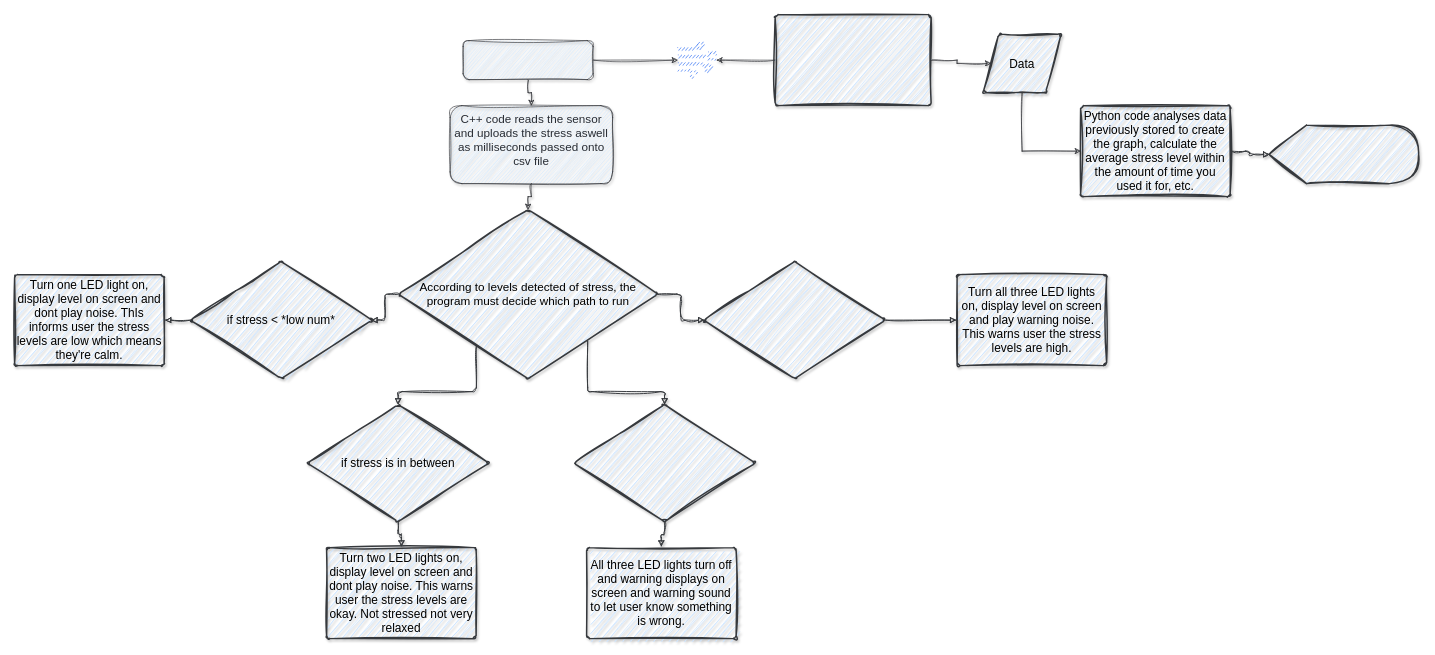
Image size: 1435x655. Some labels were removed from this diagram. Here are the shapes that lost their labels. From the top down, the centre of each, then its label:
At pixel 528 60: "User puts on GSR sensor".
At pixel 853 61: "Python code running on computer collects data streamed by Arduino.".
At pixel 1344 155: "Display analysis results.".
At pixel 795 321: "If stress > *high num*".
At pixel 665 464: "if stress too low".
